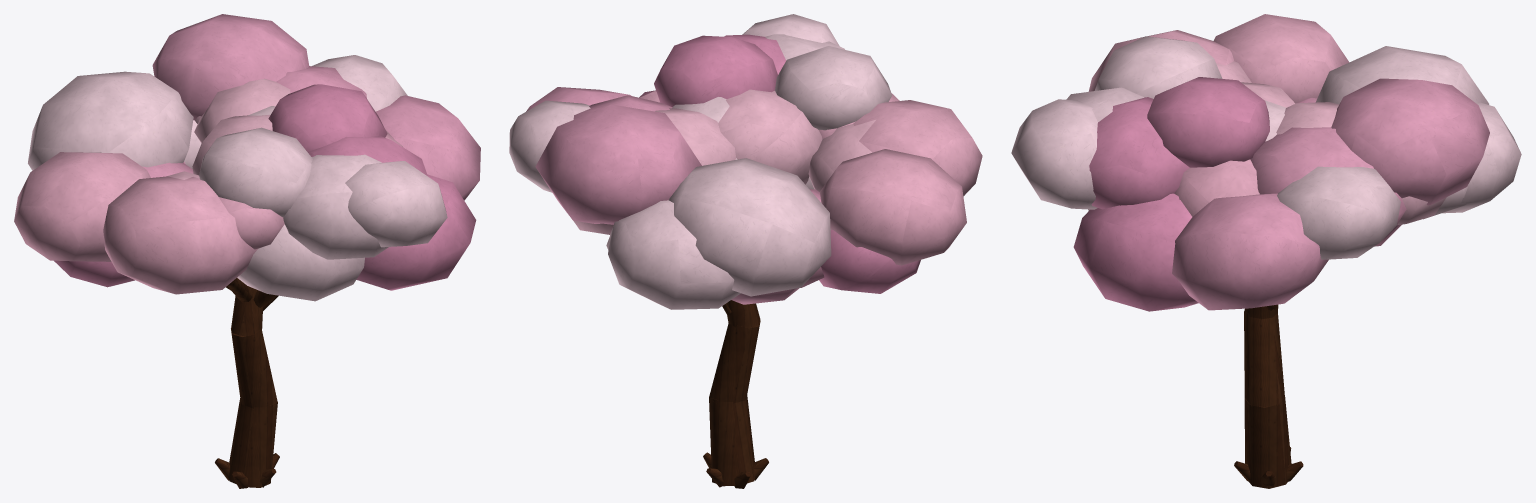
Rendered from env_tree_cherry.glb.
3 views of the same model, side by side, from view 1: azimuth 30°, elevation 25°; view 2: azimuth 150°, elevation 25°; view 3: azimuth 270°, elevation 25° (orthographic). The views are drawn at different scales.
Parts seen in each view (by area): view 1: env_tree_cherry; view 2: env_tree_cherry; view 3: env_tree_cherry.
Boxes of the visible parts, <box> form: env_tree_cherry: <box>14,14,480,488</box>; env_tree_cherry: <box>509,14,982,488</box>; env_tree_cherry: <box>1011,14,1521,488</box>.
Size of the model in its own units: 6.64 by 5.84 by 6.45.
Materials: 2 (2 with a texture image).
